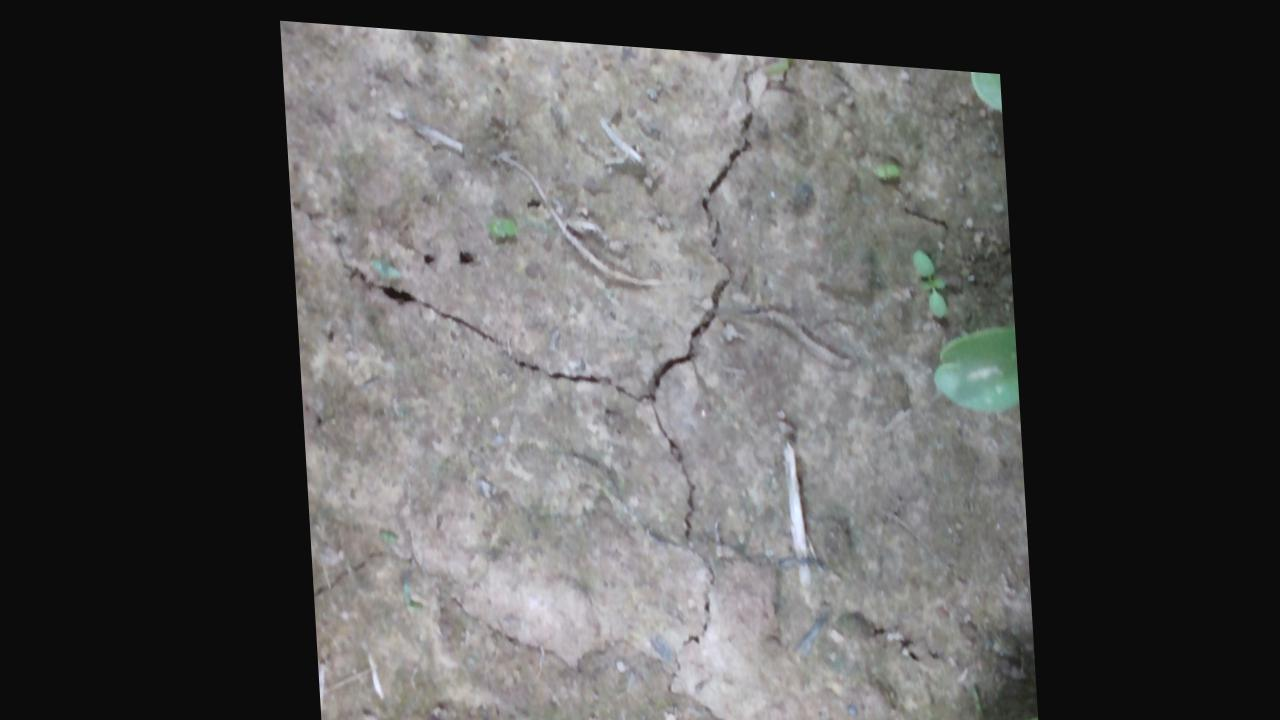weed: (905, 234, 946, 307)
